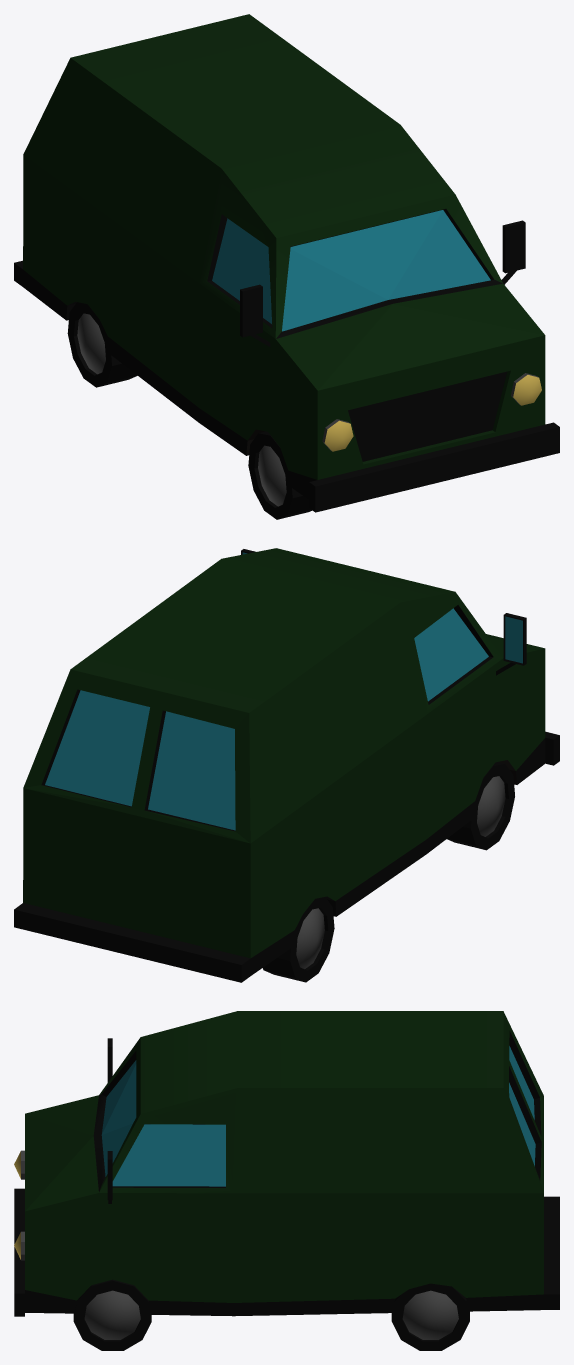
The model's file is SM_Van.fbx.
The picture shows the model from 3 angles, top to bottom: view 1: azimuth 30°, elevation 25°; view 2: azimuth 150°, elevation 25°; view 3: azimuth 270°, elevation 25°; orthographic projection. The views are drawn at different scales.
Visible parts, largest first — view 1: pCube26, pCylinder12, pCylinder19; view 2: pCube26, pCylinder19, pCylinder12; view 3: pCube26, pCylinder5, pCylinder20.
Boxes of the visible parts, x1,y1,x2,y2 form: pCube26: [14, 14, 559, 512]; pCylinder12: [248, 431, 312, 519]; pCylinder19: [67, 302, 137, 387]; pCube26: [14, 548, 559, 982]; pCylinder19: [263, 897, 334, 982]; pCylinder12: [447, 762, 514, 850]; pCube26: [14, 1011, 559, 1316]; pCylinder5: [73, 1279, 151, 1350]; pCylinder20: [391, 1283, 469, 1350].
Size of the model in its own units: 2.76 by 2.71 by 5.25.
